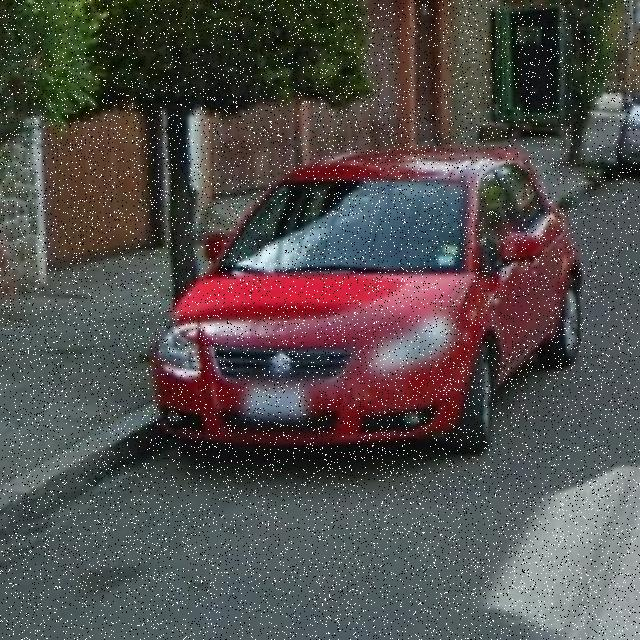cars: (151, 158, 590, 492)
